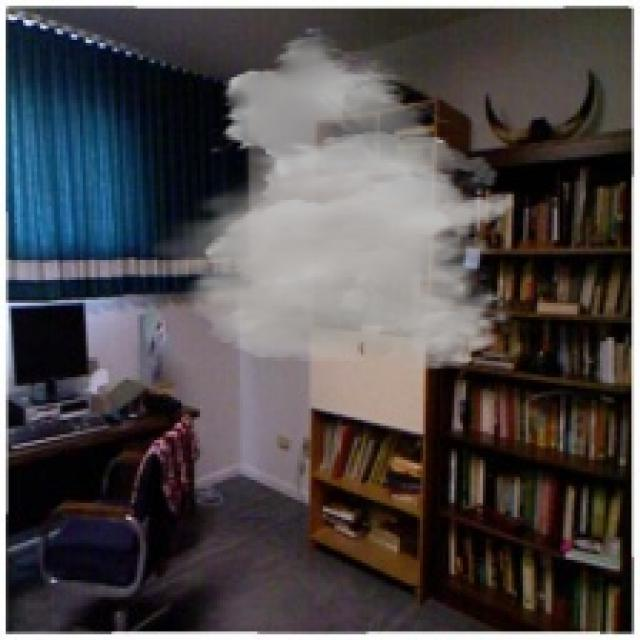smoke: (143, 26, 517, 371)
